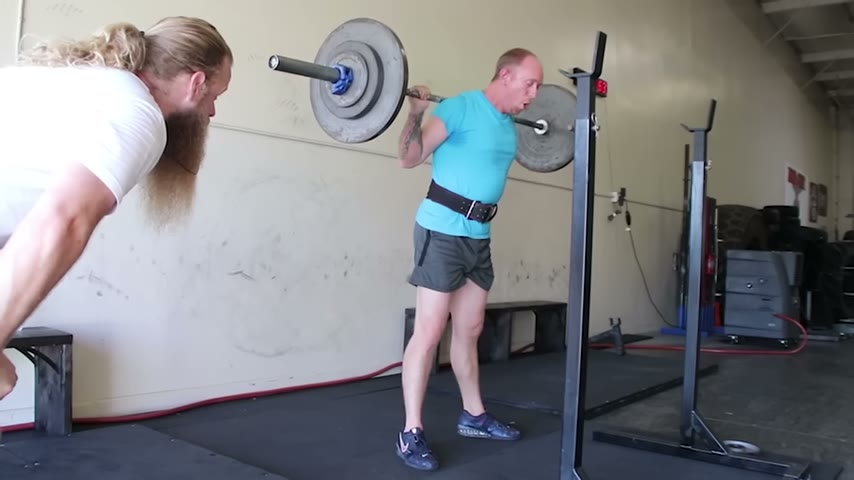barbell_plate_side: (265, 21, 363, 155), (496, 34, 582, 170)
